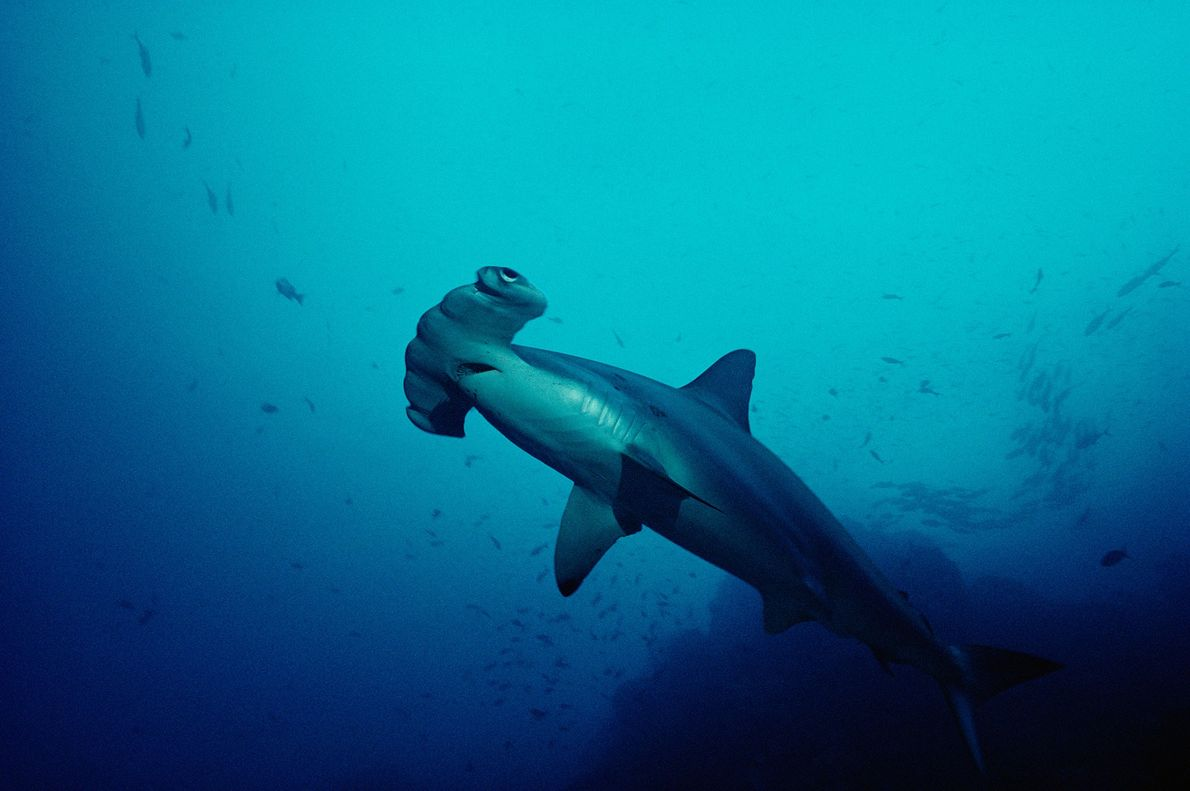Hammer: (342, 237, 1061, 791)
